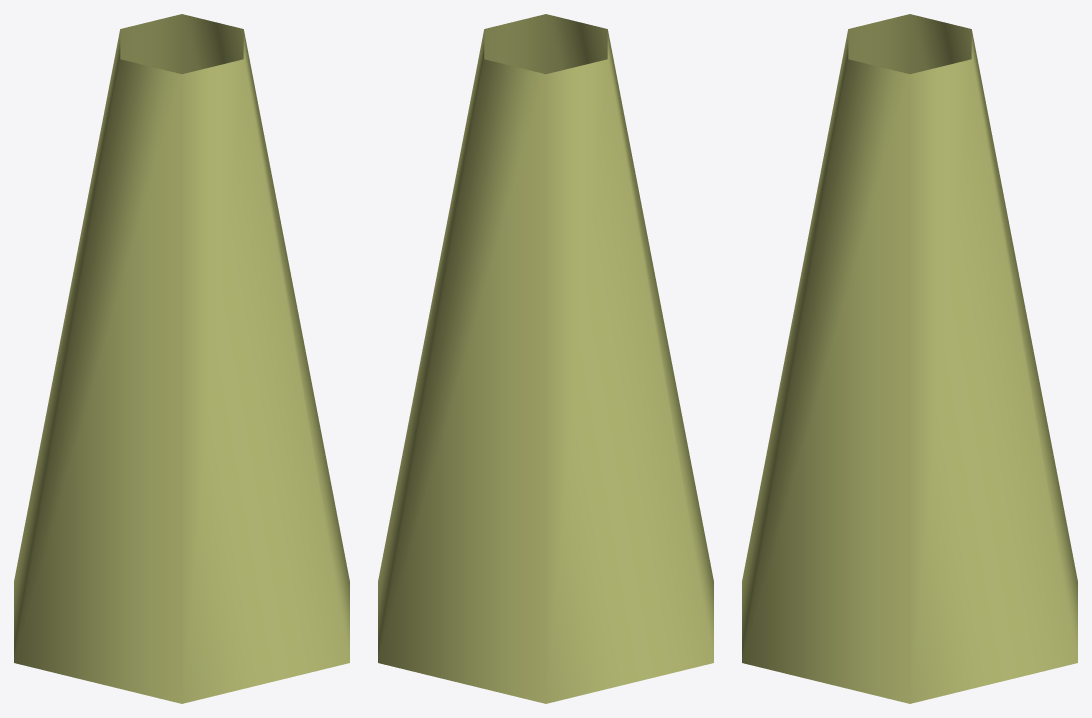
File: LightMesh_Cone.fbx
3 views of the same model, side by side, from view 1: azimuth 30°, elevation 25°; view 2: azimuth 150°, elevation 25°; view 3: azimuth 270°, elevation 25° (orthographic).
Parts seen in each view (by area): view 1: LightMesh_Cone; view 2: LightMesh_Cone; view 3: LightMesh_Cone.
Boxes of the visible parts, x1,y1,x2,y2 form: LightMesh_Cone: (14, 14, 349, 703); LightMesh_Cone: (378, 14, 713, 703); LightMesh_Cone: (742, 14, 1077, 703).
Size of the model in its own units: 210 by 346 by 182.
